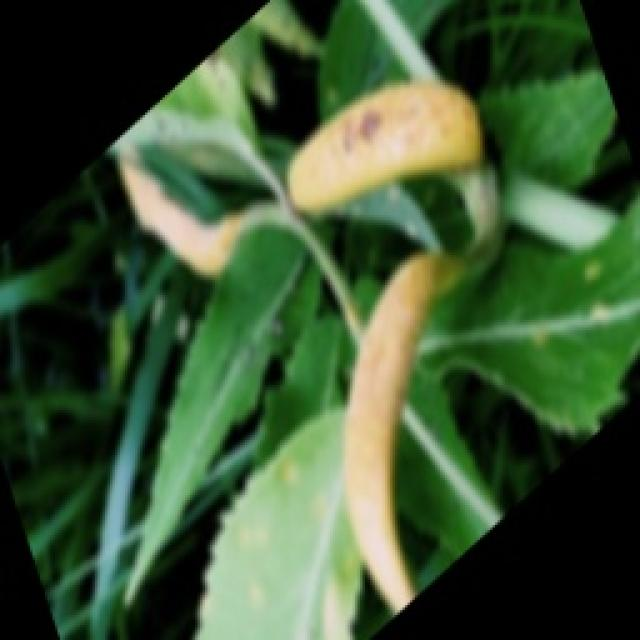Elderberry_rust: (326, 256, 466, 630), (255, 88, 502, 200)
